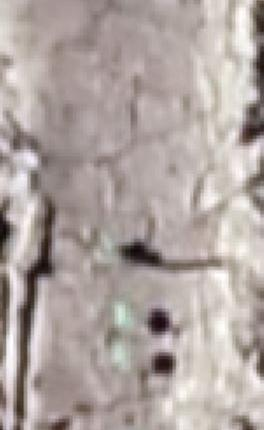cotton: (110, 341, 133, 368), (112, 302, 132, 325)
